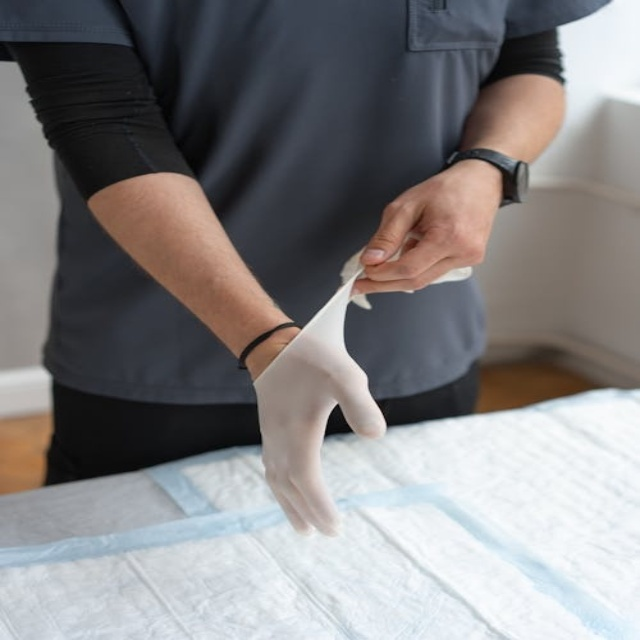Guantes: (221, 323, 392, 537)
Sin_guantes: (347, 159, 504, 300)
